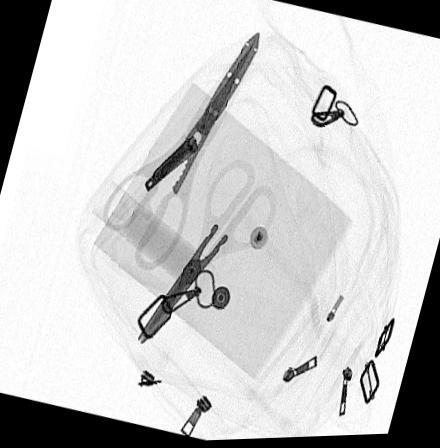Scissors: (100, 30, 262, 275), (135, 161, 276, 348)
